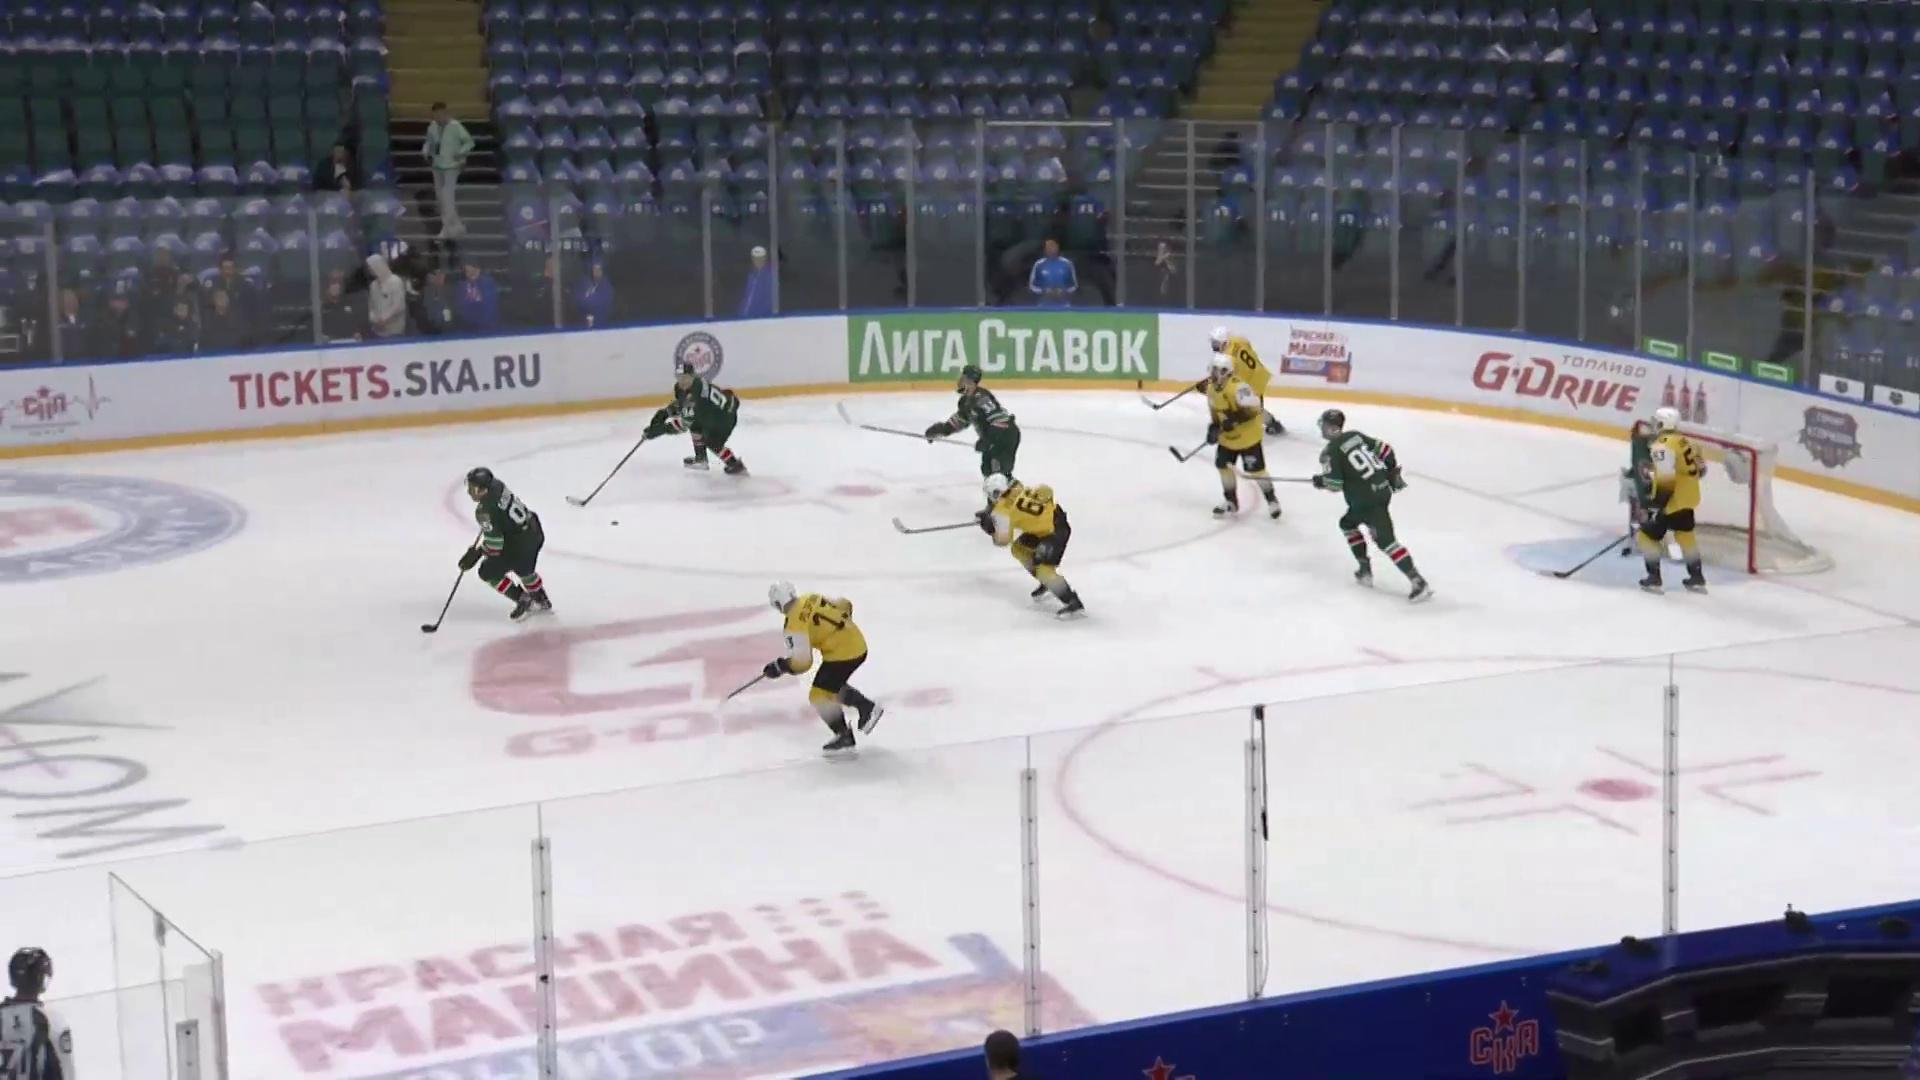ball: (611, 521, 620, 526)
